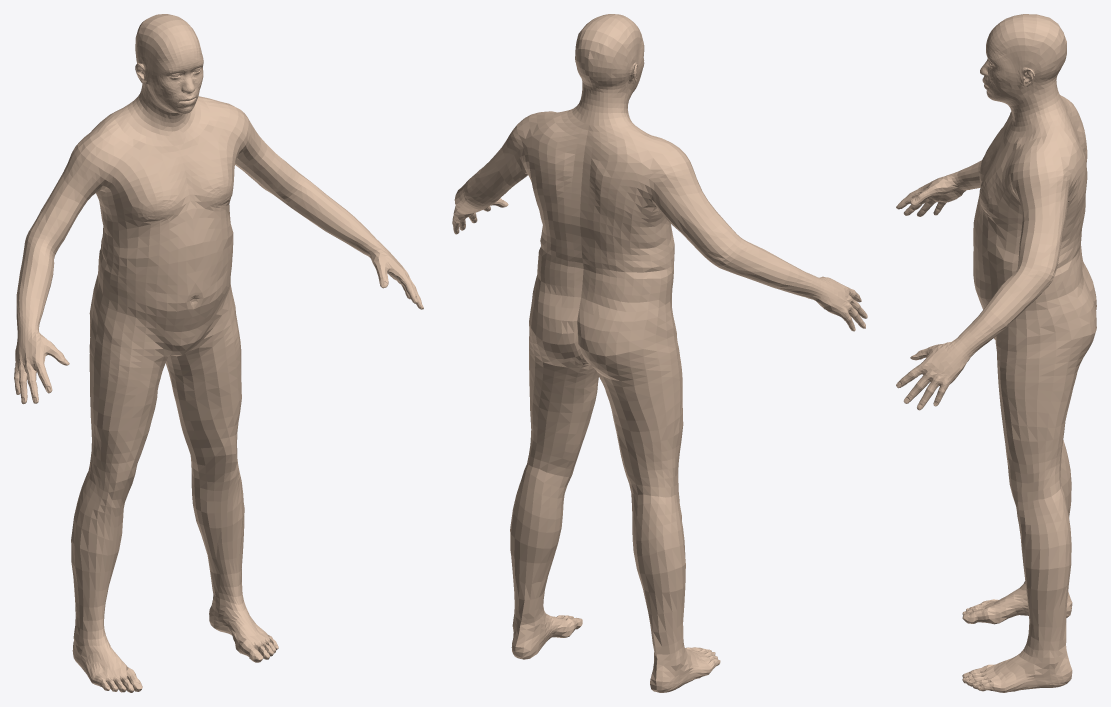
The model's file is male-young-heavy-low.glb.
3 views of the same model, side by side, from view 1: azimuth 30°, elevation 25°; view 2: azimuth 150°, elevation 25°; view 3: azimuth 270°, elevation 25° (orthographic).
Parts seen in each view (by area): view 1: world; view 2: world; view 3: world.
Boxes of the visible parts, x1=… form: world: x1=14, y1=14, x2=423, y2=692; world: x1=452, y1=14, x2=867, y2=692; world: x1=896, y1=14, x2=1096, y2=692.
Size of the model in its own units: 1.24 by 1.89 by 0.5411.
